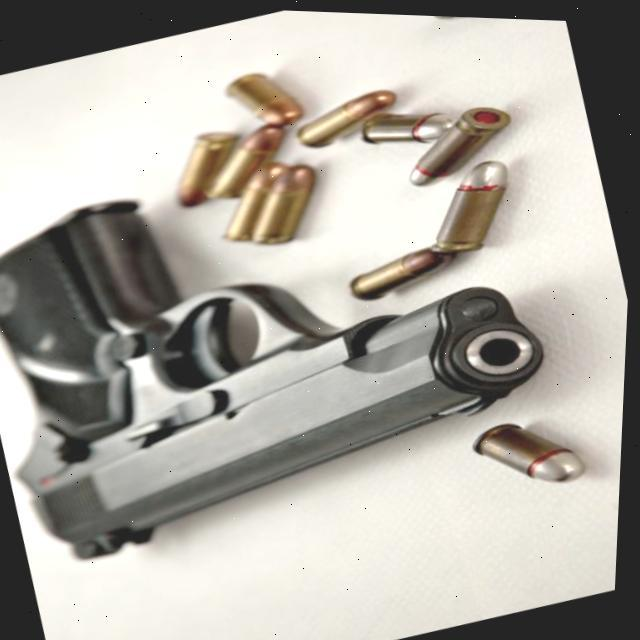gun: (0, 93, 581, 589)
